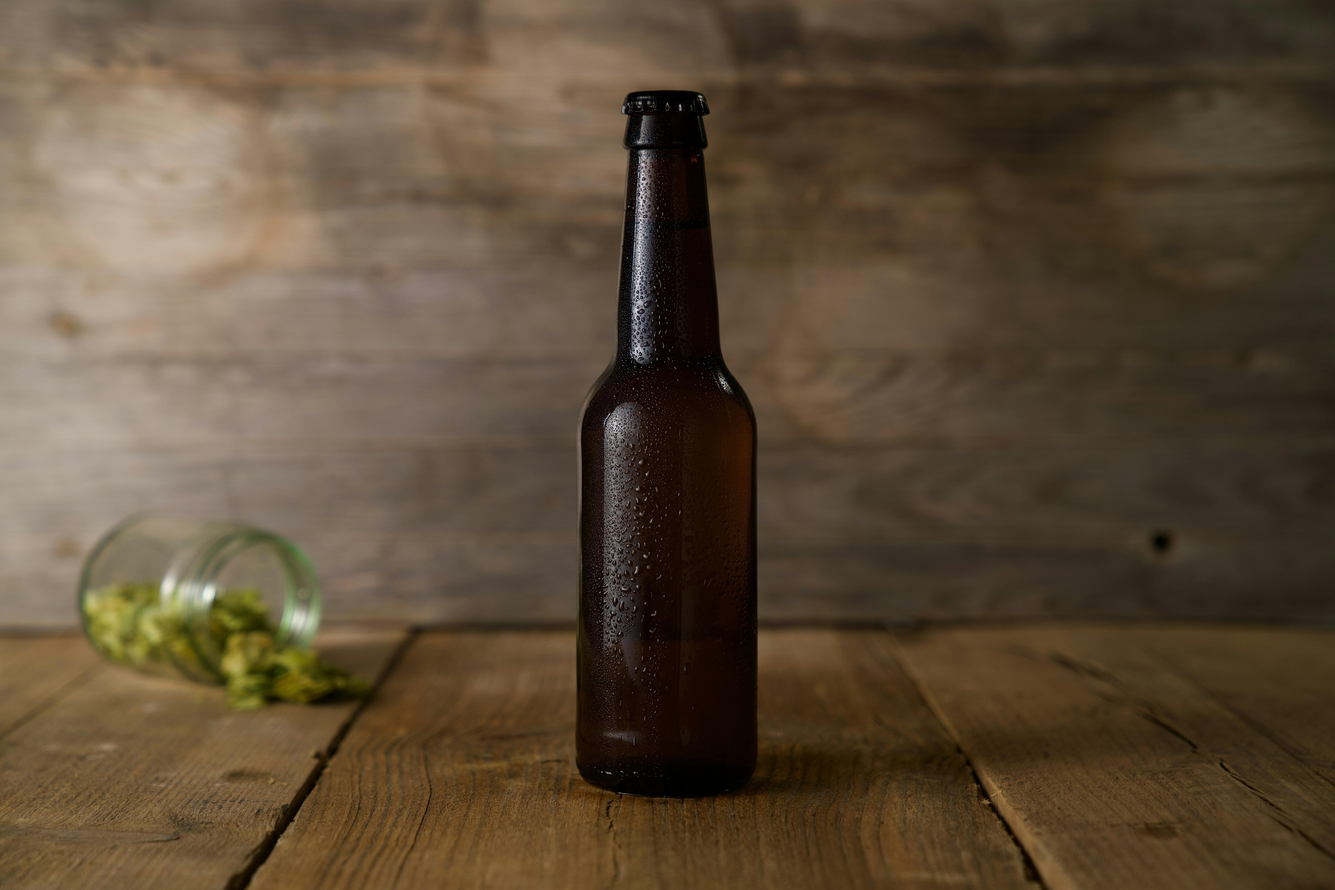Bottle-Detection: (494, 42, 881, 852)
